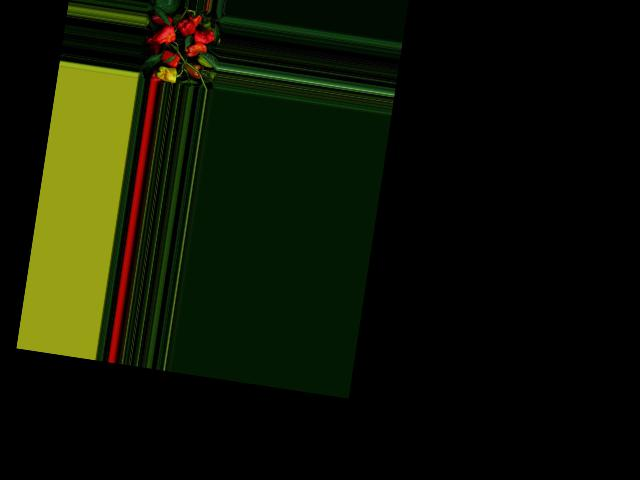bell_pepper: (190, 12, 202, 26)
